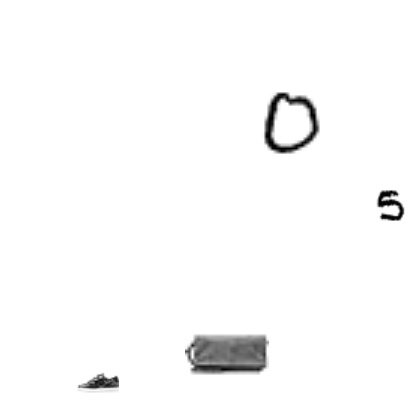0: (247, 81, 331, 165)
5: (368, 183, 410, 225)
Bag: (185, 311, 269, 395)
Sneaker: (77, 361, 119, 403)
